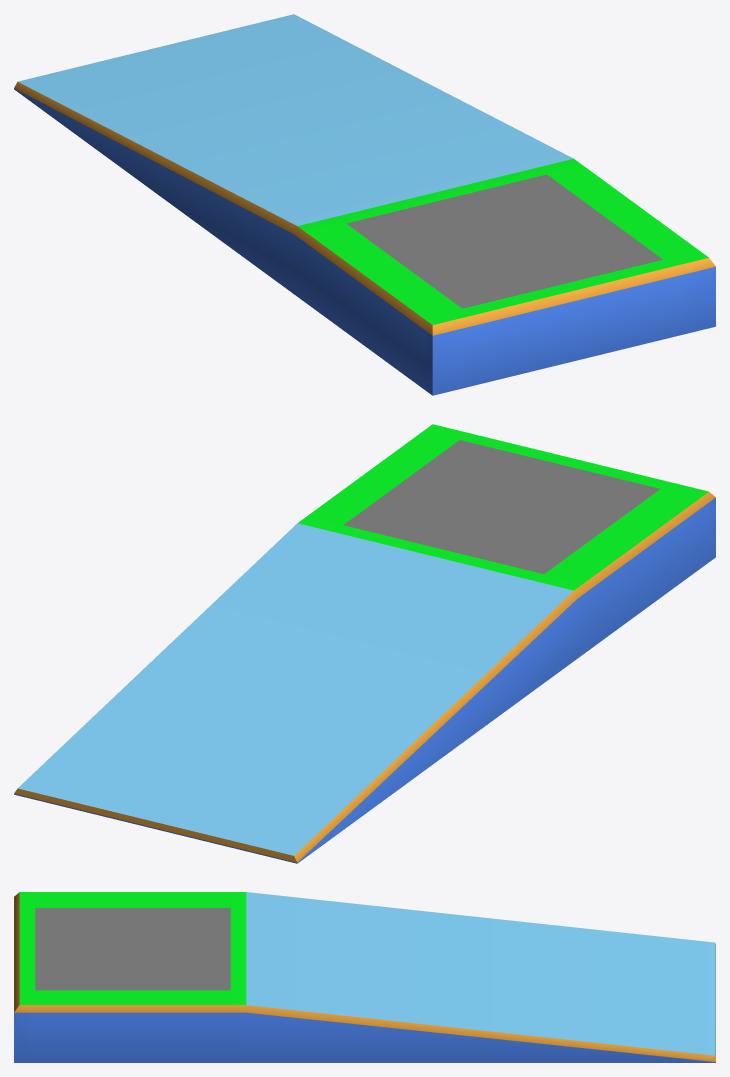
The model's file is road.fbx.
3 renders of one model, top to bottom at view 1: azimuth 30°, elevation 25°; view 2: azimuth 150°, elevation 25°; view 3: azimuth 270°, elevation 25°, orthographic. The views are drawn at different scales.
Visible parts, largest first — view 1: road, board; view 2: road, board; view 3: road, board.
Boxes of the visible parts, left/top/right/bottom form: road: left=14, top=14, right=715, bottom=395; board: left=346, top=174, right=662, bottom=308; road: left=14, top=424, right=715, bottom=863; board: left=343, top=440, right=659, bottom=573; road: left=14, top=892, right=715, bottom=1062; board: left=35, top=908, right=230, bottom=990.
Bounding box in the file's own units: 5.08 × 1.17 × 13.
